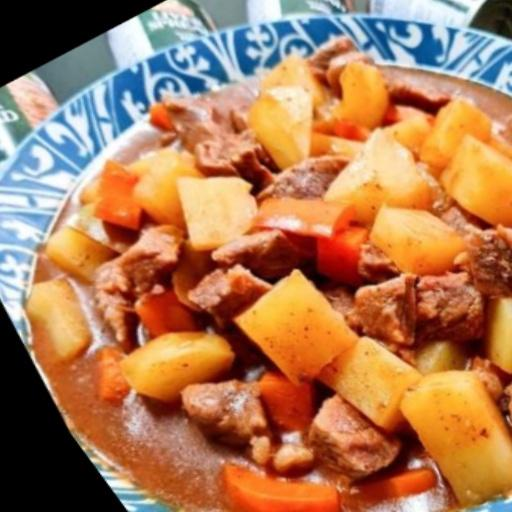pork caldereta: (28, 36, 511, 511)
